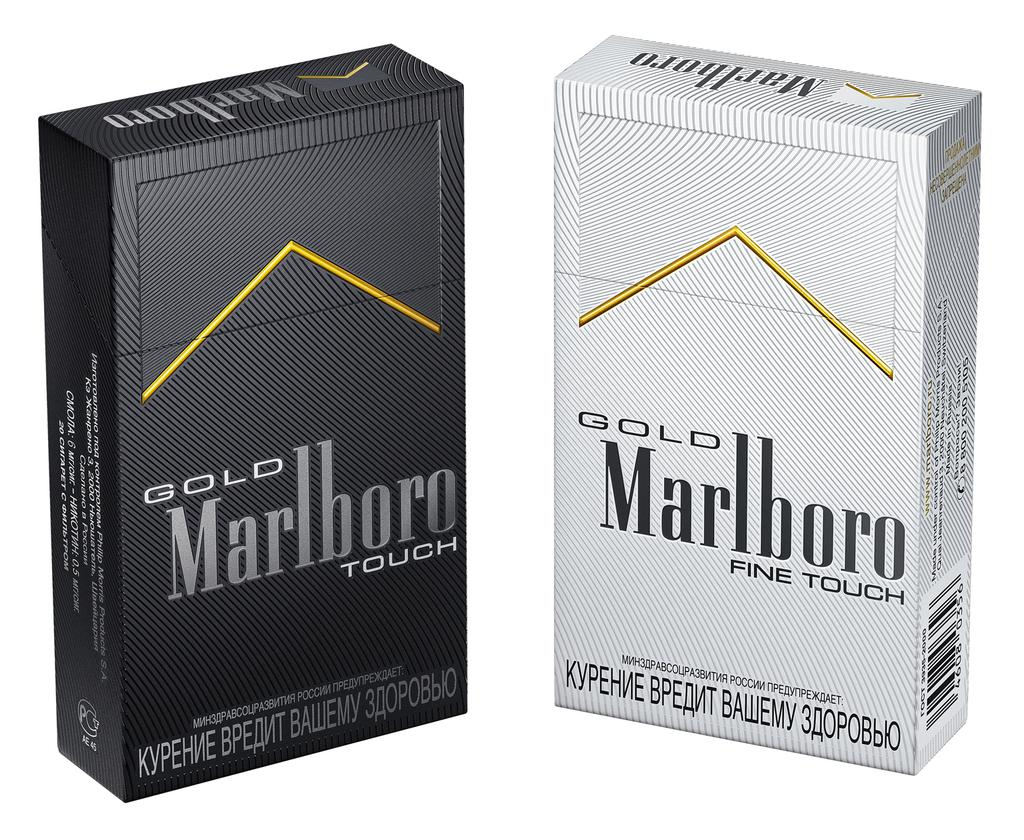marlboro_gold: (555, 133, 929, 709)
